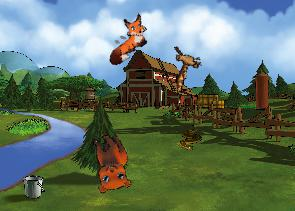bear: (78, 129, 139, 198)
eagle: (160, 39, 209, 95)
fox: (95, 10, 157, 68)
